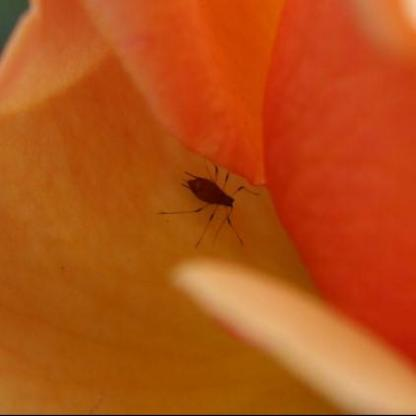aphid: (163, 154, 262, 239)
